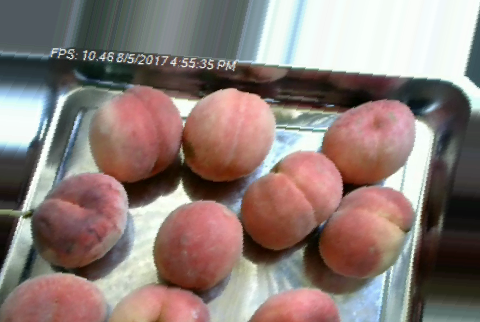Peach: (244, 152, 341, 248), (181, 87, 277, 183), (318, 184, 414, 279), (87, 86, 182, 182), (35, 173, 130, 267), (320, 97, 415, 187), (152, 200, 242, 291)
